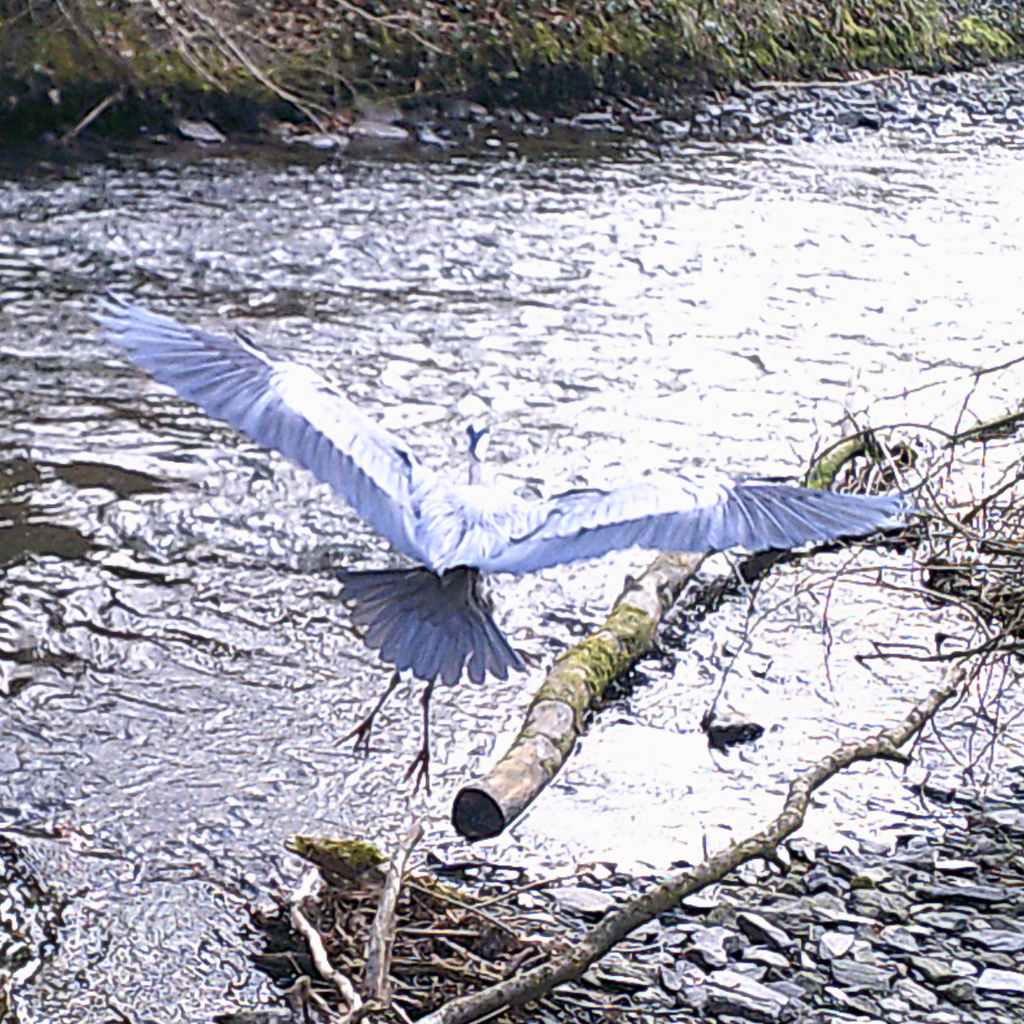heron: (85, 288, 906, 800)
